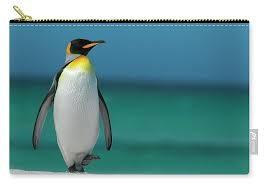king: (39, 29, 123, 170)
